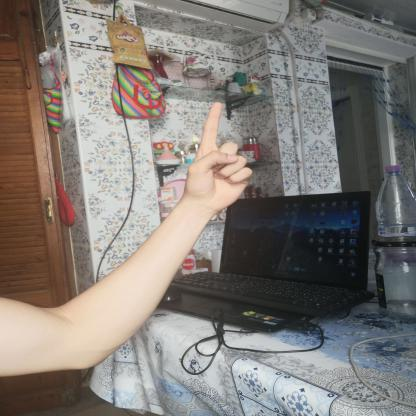BAA: (180, 89, 258, 217)
